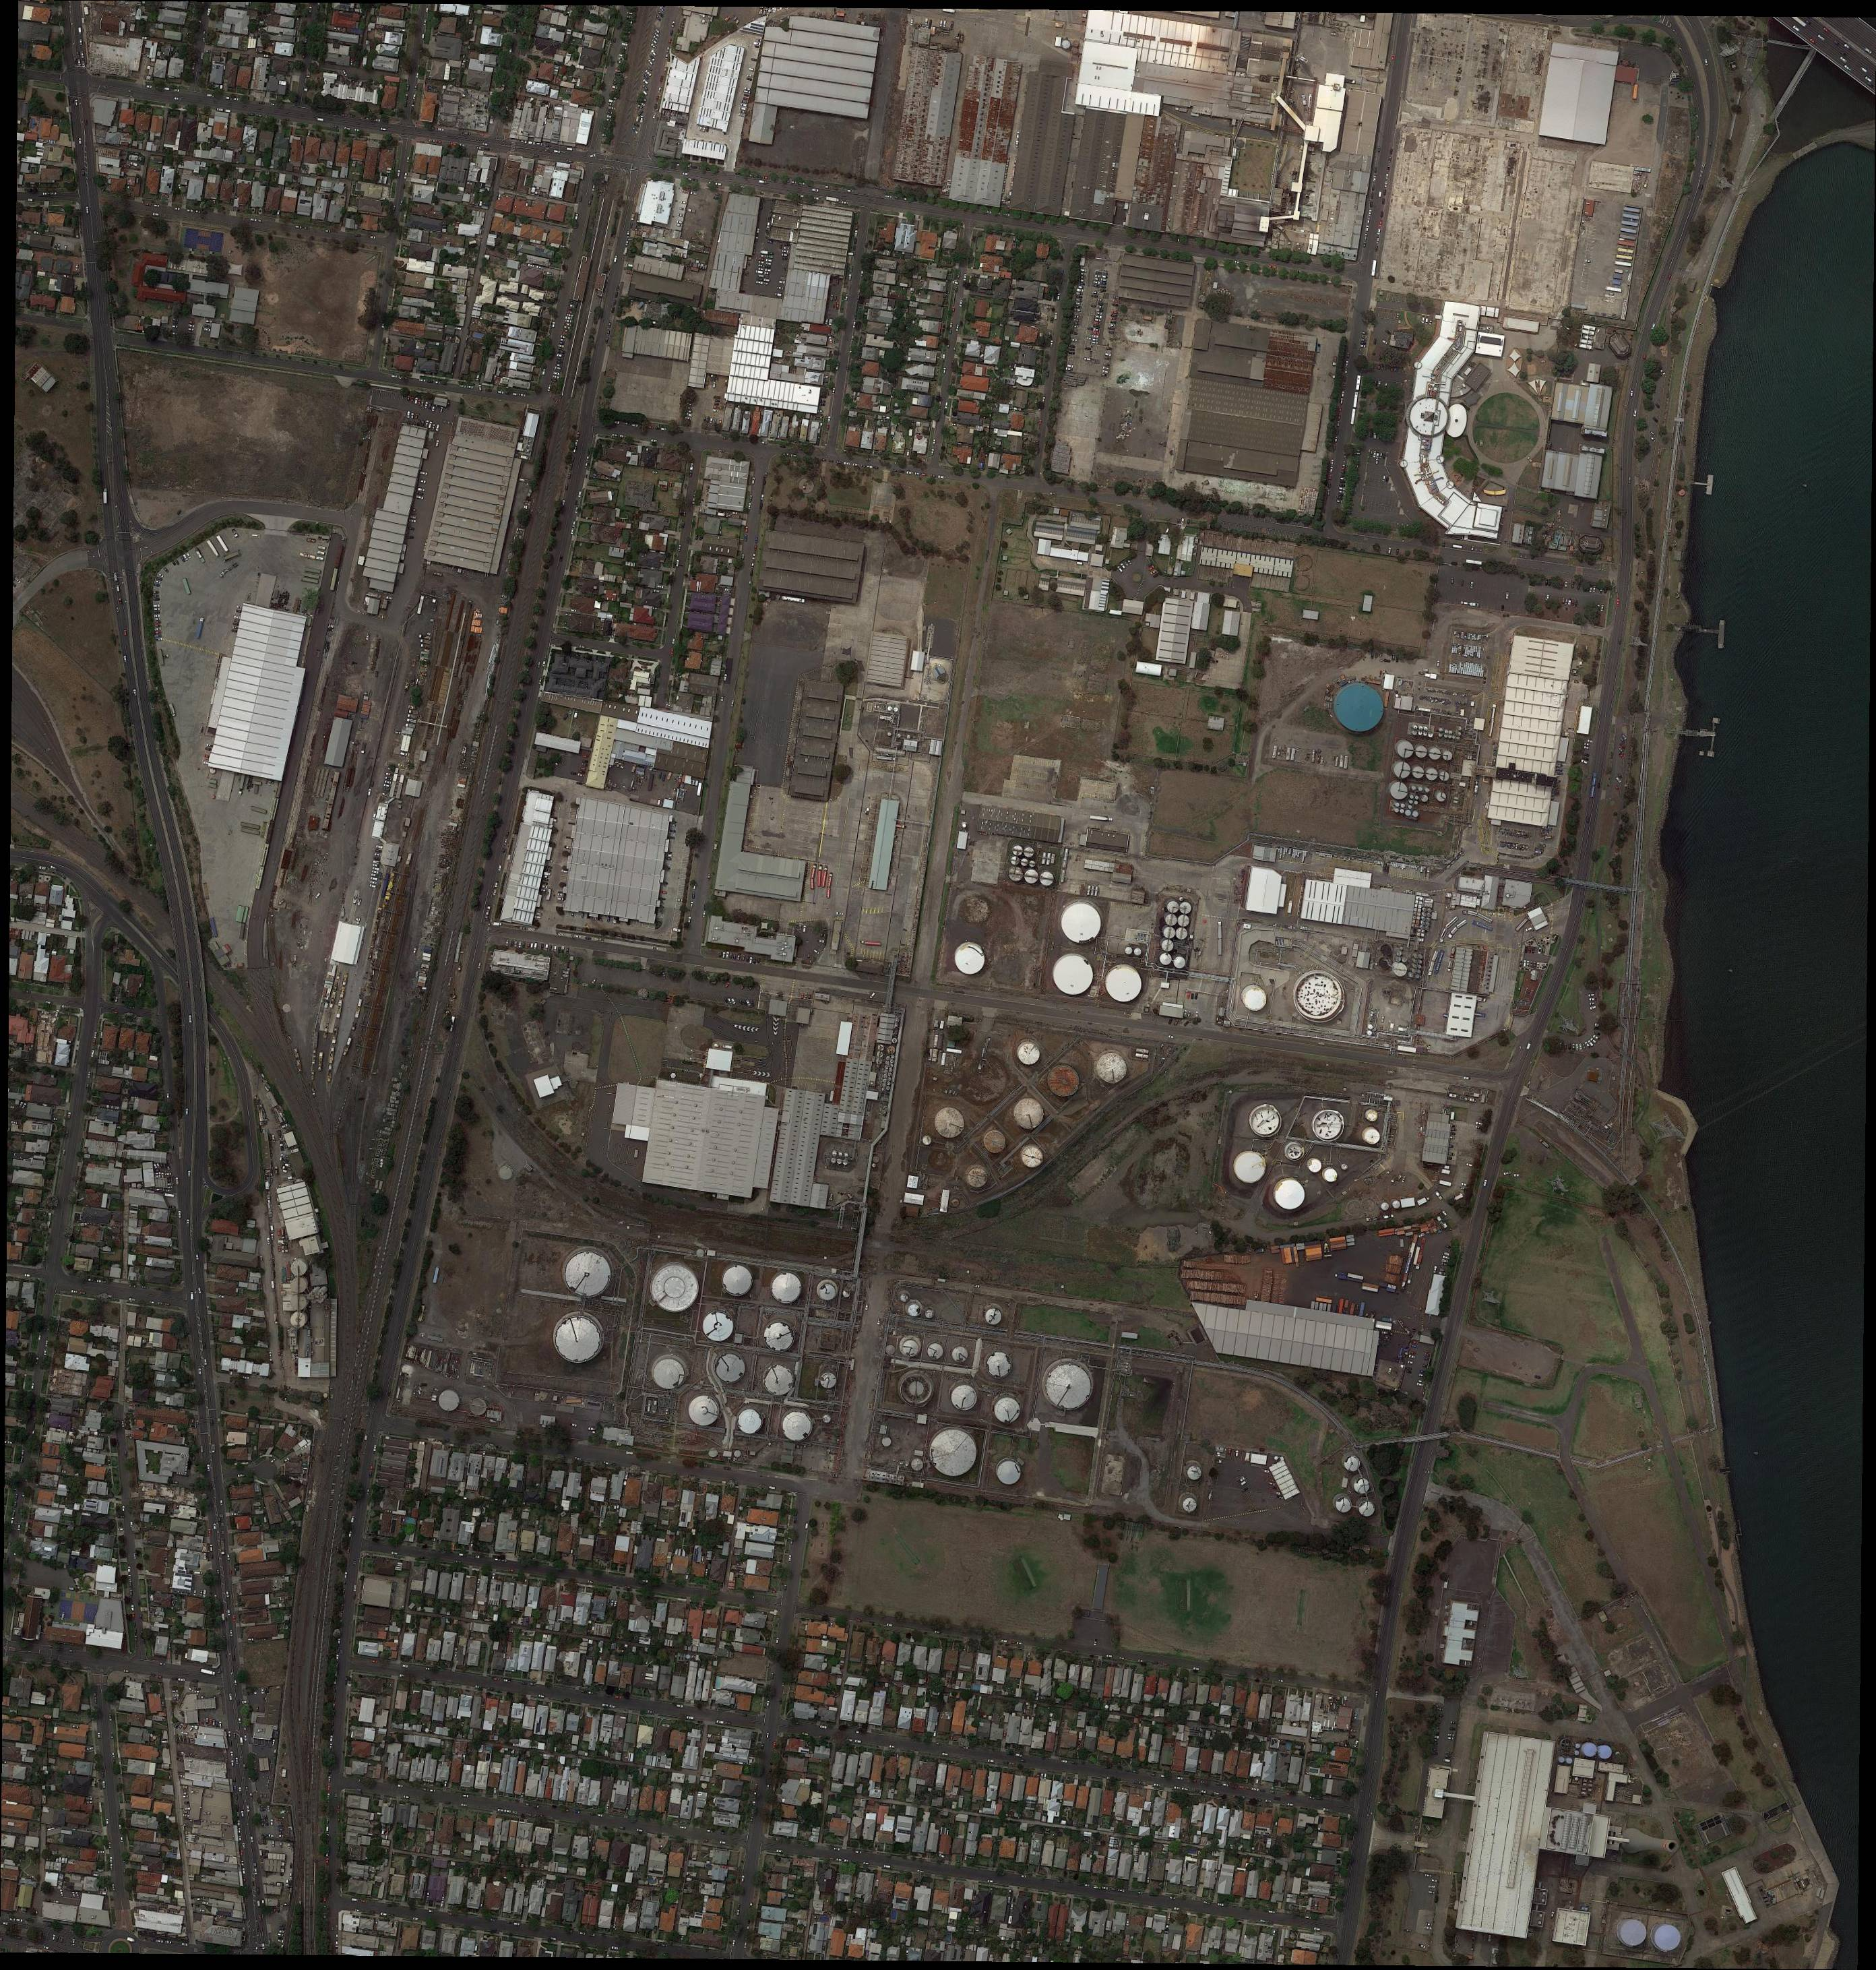harbor: (1718, 621, 1725, 649), (1705, 475, 1714, 496)
large vehicle: (1429, 952, 1438, 976), (826, 874, 833, 899), (782, 596, 805, 603), (811, 865, 818, 888), (239, 774, 246, 797), (197, 617, 204, 638), (821, 867, 828, 886), (1090, 816, 1115, 821), (1350, 408, 1357, 426), (1356, 375, 1363, 390), (818, 865, 823, 886), (200, 1669, 216, 1676), (862, 941, 881, 946), (169, 704, 176, 718), (1354, 392, 1359, 408), (1371, 260, 1377, 276), (826, 197, 840, 202), (222, 1537, 225, 1555), (104, 487, 107, 505)
roundabout: (109, 1938, 134, 1954)
storage tank: (1296, 971, 1345, 1024), (1336, 684, 1385, 733), (652, 1265, 698, 1312), (932, 1430, 978, 1477), (564, 1252, 610, 1298), (556, 1317, 600, 1363), (1048, 1365, 1092, 1411), (1053, 955, 1094, 996), (1062, 906, 1101, 943), (1104, 967, 1143, 1003), (1048, 1066, 1080, 1098), (900, 1375, 932, 1407), (1313, 1110, 1345, 1142), (1250, 1105, 1282, 1136), (772, 1272, 802, 1303), (1275, 1180, 1306, 1210), (689, 1397, 719, 1426), (955, 945, 985, 974), (654, 1360, 684, 1390), (765, 1323, 795, 1353), (1236, 1154, 1266, 1184), (765, 1365, 793, 1397), (784, 1411, 812, 1442), (1016, 1099, 1044, 1129), (935, 1108, 963, 1138), (705, 1312, 733, 1342), (724, 1266, 753, 1296), (1099, 1054, 1127, 1083), (717, 1354, 745, 1383), (995, 1398, 1022, 1425), (1654, 1926, 1681, 1951), (951, 1386, 978, 1411), (988, 1353, 1013, 1377), (738, 1409, 761, 1434), (1623, 1921, 1646, 1945), (1243, 989, 1268, 1011), (999, 1462, 1022, 1485), (985, 1131, 1006, 1154), (967, 1168, 988, 1189), (1018, 1045, 1041, 1064), (1022, 1149, 1043, 1168), (440, 1390, 459, 1411), (1287, 1142, 1305, 1163), (1391, 781, 1408, 800), (819, 1284, 837, 1302), (290, 1295, 308, 1312), (290, 1277, 308, 1295), (290, 1259, 308, 1277), (904, 1340, 920, 1358), (986, 1309, 1002, 1326), (471, 1398, 487, 1416), (1394, 762, 1410, 779), (1398, 741, 1414, 758), (1364, 1127, 1380, 1145), (1359, 1500, 1375, 1518), (821, 1374, 837, 1390), (953, 1347, 969, 1363), (928, 1344, 944, 1360), (1336, 1497, 1352, 1513), (1345, 1456, 1361, 1472), (292, 1310, 306, 1328), (1009, 865, 1023, 881), (1025, 869, 1039, 885), (499, 1164, 513, 1180), (1183, 1497, 1197, 1513), (1308, 1157, 1322, 1173), (1356, 1477, 1370, 1493), (1598, 1745, 1612, 1759), (1584, 1743, 1598, 1757), (1189, 1465, 1203, 1479), (1324, 1168, 1338, 1182), (1041, 871, 1053, 886), (1396, 962, 1408, 978), (1180, 901, 1192, 915), (1164, 925, 1176, 939), (1174, 955, 1187, 969), (909, 1305, 921, 1317), (1426, 769, 1438, 781), (1429, 748, 1442, 760), (1415, 746, 1428, 758), (1166, 913, 1178, 925), (1178, 915, 1190, 927), (1162, 939, 1174, 952), (913, 1458, 923, 1472), (1174, 929, 1189, 939), (1013, 844, 1023, 857), (1414, 767, 1424, 779), (1167, 901, 1178, 913), (1368, 1110, 1378, 1122), (1160, 953, 1171, 966), (1436, 792, 1447, 802), (1011, 855, 1020, 865), (1025, 848, 1034, 858), (923, 1135, 932, 1145), (925, 1309, 934, 1319), (900, 1293, 909, 1303), (1440, 770, 1449, 781), (1443, 751, 1452, 762), (883, 1437, 891, 1448), (1062, 40, 1071, 49), (823, 1414, 832, 1423), (1392, 1200, 1401, 1208), (1338, 955, 1347, 964), (1382, 1201, 1389, 1212), (735, 1449, 742, 1458), (1022, 858, 1029, 867), (844, 1289, 851, 1298), (1421, 795, 1429, 802), (1134, 948, 1141, 957), (1125, 946, 1132, 955), (1567, 1757, 1574, 1764), (1342, 1164, 1349, 1171), (1030, 860, 1036, 869), (872, 1157, 881, 1163), (842, 1159, 849, 1164), (844, 1152, 849, 1159), (832, 1157, 837, 1164), (832, 1150, 837, 1157), (1396, 955, 1401, 962), (1414, 811, 1419, 818), (1405, 811, 1412, 816), (1558, 1757, 1565, 1762), (893, 707, 898, 712), (837, 1159, 842, 1164), (1403, 957, 1408, 962), (1412, 786, 1417, 792), (1575, 1743, 1581, 1748), (1400, 809, 1405, 814), (1394, 802, 1400, 807), (1414, 800, 1419, 806), (1415, 795, 1421, 800), (839, 1150, 842, 1157), (888, 707, 891, 712), (1394, 809, 1400, 813), (1575, 1750, 1579, 1755), (1419, 786, 1422, 792), (1408, 800, 1414, 804), (1426, 788, 1429, 793), (1401, 804, 1405, 807), (1408, 806, 1412, 809), (1410, 795, 1414, 799)
